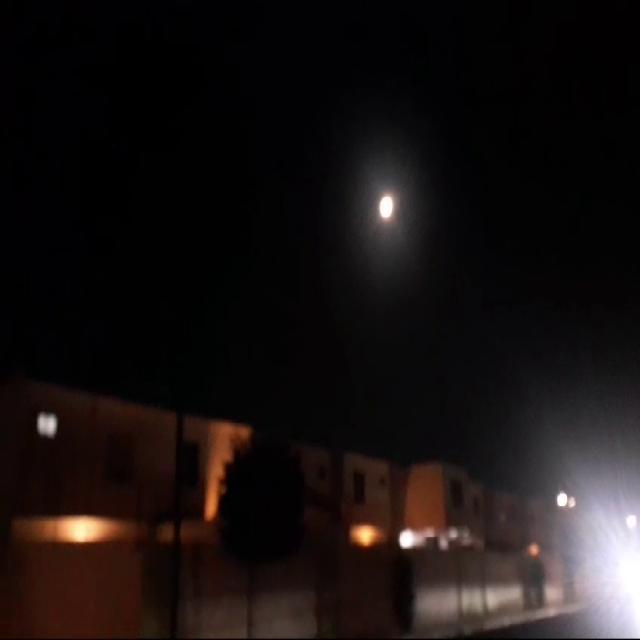moon: (386, 188, 404, 222)
